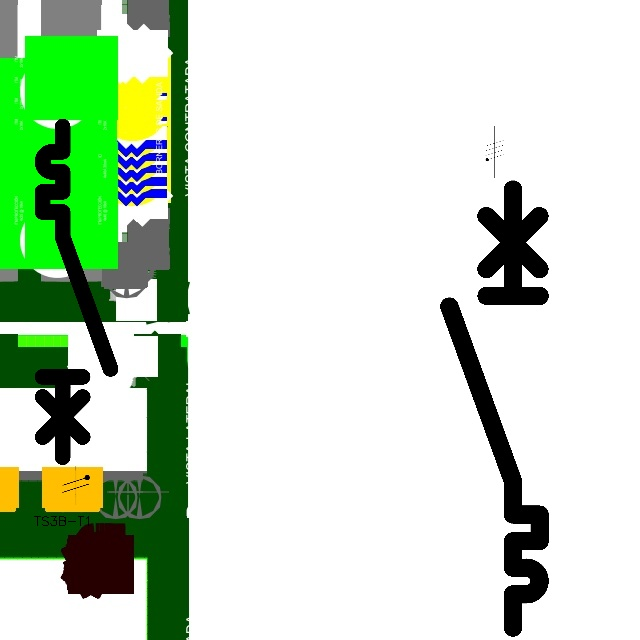interruptor_termomagnetico: (438, 178, 551, 639), (34, 118, 119, 466)
